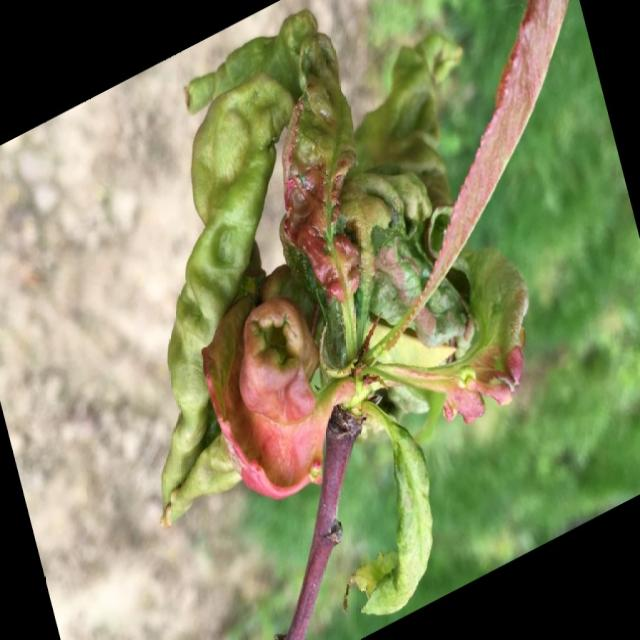peach_leaf_curl: (158, 5, 564, 634)
